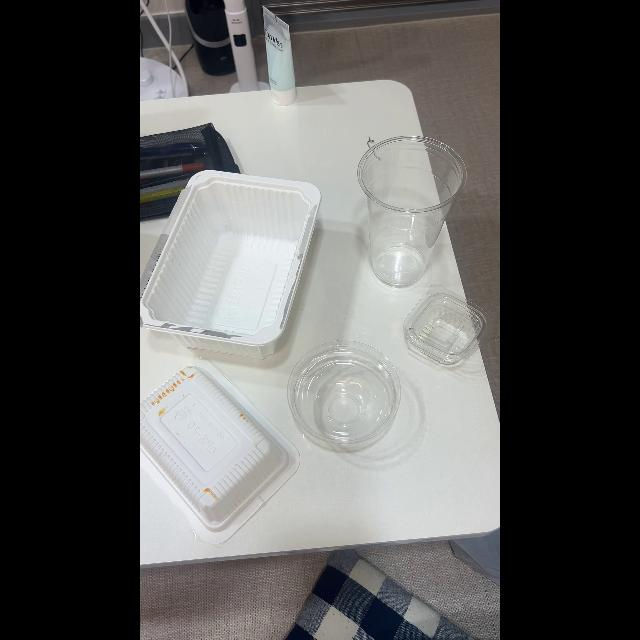clean: (140, 173, 322, 349), (358, 137, 464, 286), (288, 342, 400, 444), (404, 287, 488, 363)
dirty: (140, 364, 286, 526)
